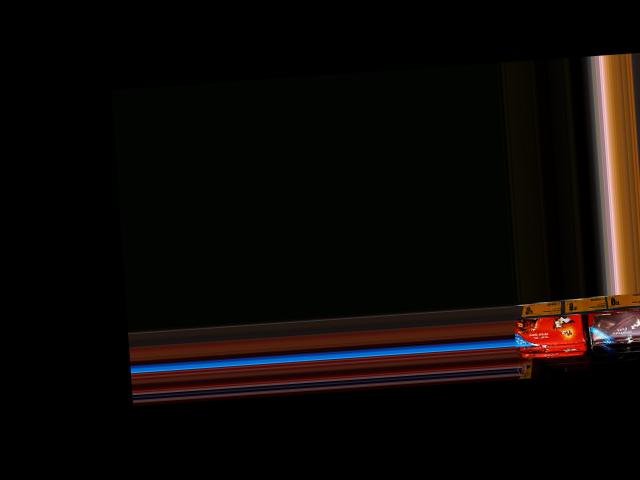chocolate: (593, 301, 640, 343)
